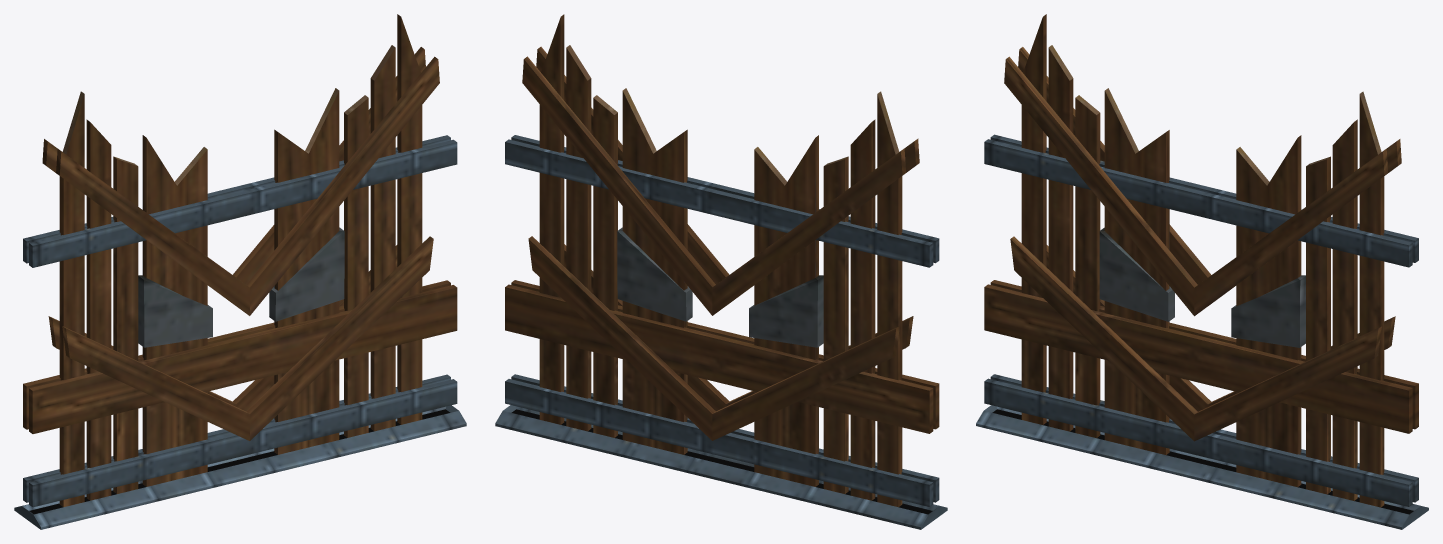
Rendered from DoorA.FBX.
3 renders of one model, left to right at view 1: azimuth 30°, elevation 25°; view 2: azimuth 150°, elevation 25°; view 3: azimuth 330°, elevation 25°, orthographic.
Parts seen in each view (by area): view 1: DoorA_door, DoorA_frame; view 2: DoorA_door, DoorA_frame; view 3: DoorA_door, DoorA_frame.
Part boxes in pixels (x1,y1,x2,y2): DoorA_door: [23, 14, 457, 507]; DoorA_frame: [14, 405, 466, 529]; DoorA_door: [505, 14, 939, 507]; DoorA_frame: [495, 405, 947, 529]; DoorA_door: [984, 14, 1418, 507]; DoorA_frame: [976, 405, 1428, 529].
Bounding box in the file's own units: 801 × 87.31 × 750.
